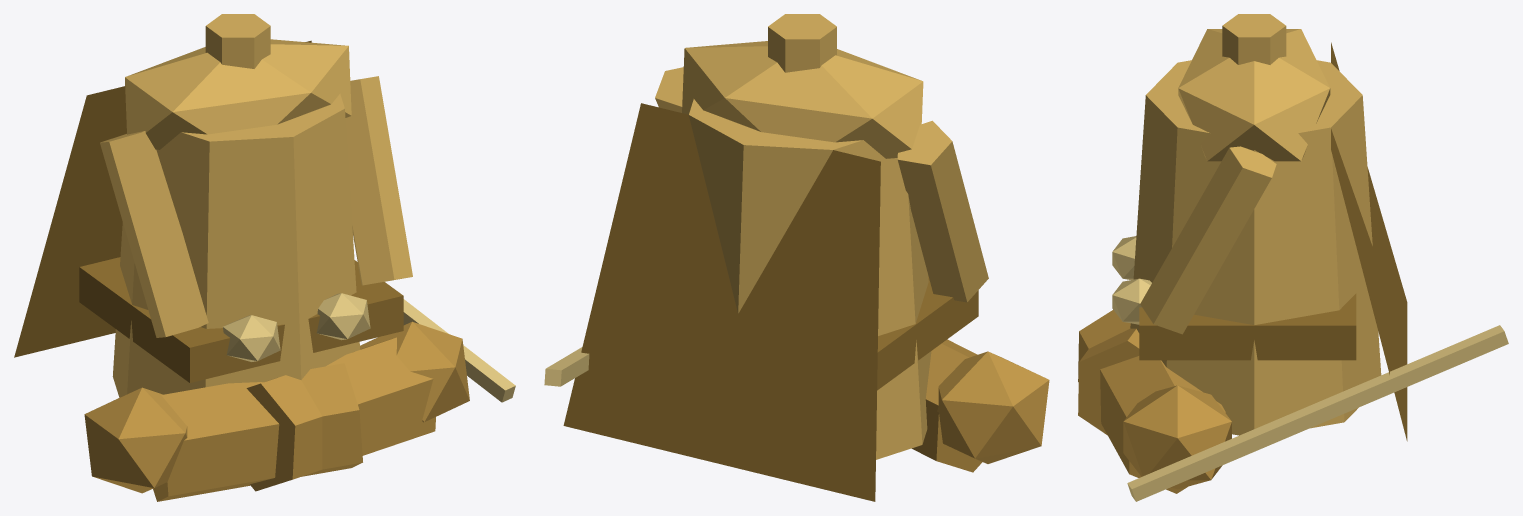
File: statue_man.glb
The picture shows the model from 3 angles, left to right: view 1: azimuth 30°, elevation 25°; view 2: azimuth 150°, elevation 25°; view 3: azimuth 270°, elevation 25°; orthographic projection. The views are drawn at different scales.
Visible parts, largest first — view 1: golden doublet, shoulders.001, crossed leg.002, short cape, crossed leg.003, resting arm.002, sword belt, resting arm.003, knee.002, knee.003, neck.001, folded hand.002 (+2 smaller); view 2: short cape, golden doublet, shoulders.001, knee.002, resting arm.002, sword belt, neck.001, crossed leg.002, rapier, resting arm.003; view 3: golden doublet, shoulders.001, resting arm.003, sword belt, rapier, knee.003, short cape, crossed leg.003, neck.001, crossed leg.002, folded hand.003, folded hand.002.
Part boxes in pixels (bbox=[...]): golden doublet: bbox=[112, 93, 360, 397]; shoulders.001: bbox=[125, 39, 351, 149]; crossed leg.002: bbox=[153, 363, 362, 501]; short cape: bbox=[14, 40, 311, 357]; crossed leg.003: bbox=[246, 337, 435, 491]; resting arm.002: bbox=[100, 131, 208, 337]; sword belt: bbox=[79, 257, 403, 382]; resting arm.003: bbox=[345, 76, 412, 285]; knee.002: bbox=[84, 387, 187, 493]; knee.003: bbox=[360, 321, 469, 422]; neck.001: bbox=[205, 14, 270, 68]; folded hand.002: bbox=[223, 315, 280, 361]; short cape: bbox=[563, 103, 880, 501]; golden doublet: bbox=[688, 99, 931, 459]; shoulders.001: bbox=[682, 41, 923, 158]; knee.002: bbox=[937, 351, 1049, 463]; resting arm.002: bbox=[897, 120, 988, 302]; sword belt: bbox=[877, 276, 978, 390]; neck.001: bbox=[768, 14, 836, 72]; crossed leg.002: bbox=[912, 339, 982, 472]; rapier: bbox=[544, 347, 589, 386]; resting arm.003: bbox=[655, 67, 683, 112]; golden doublet: bbox=[1130, 60, 1381, 435]; shoulders.001: bbox=[1178, 29, 1330, 161]; resting arm.003: bbox=[1140, 146, 1276, 334]; sword belt: bbox=[1139, 293, 1356, 360]; rapier: bbox=[1127, 325, 1508, 501]; knee.003: bbox=[1123, 385, 1231, 489]; short cape: bbox=[1331, 42, 1407, 441]; crossed leg.003: bbox=[1078, 310, 1226, 493]; neck.001: bbox=[1222, 14, 1286, 64]; crossed leg.002: bbox=[1078, 328, 1139, 435]; folded hand.003: bbox=[1112, 278, 1151, 324]; folded hand.002: bbox=[1112, 236, 1136, 279].
Size of the model in its own units: 0.3561 by 0.3549 by 0.3375.
